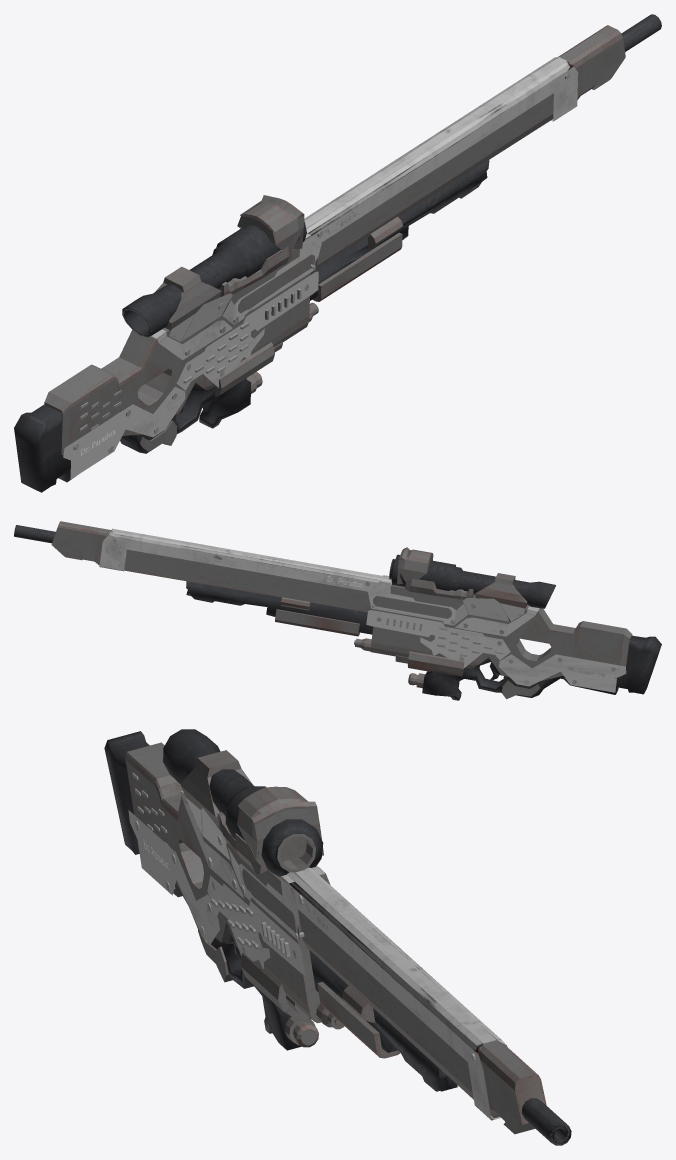
The model's file is sniper-rifle.obj.
3 renders of one model, top to bottom at view 1: azimuth 30°, elevation 25°; view 2: azimuth 150°, elevation 25°; view 3: azimuth 270°, elevation 25°, orthographic. The views are drawn at different scales.
Visible parts, largest first — view 1: defaultMaterial.002, defaultMaterial, defaultMaterial.001, defaultMaterial.003; view 2: defaultMaterial.002, defaultMaterial, defaultMaterial.001, defaultMaterial.003; view 3: defaultMaterial.002, defaultMaterial, defaultMaterial.001, defaultMaterial.003.
Boxes of the visible parts, left/top/right/bottom form: defaultMaterial.002: left=44, top=25, right=625, bottom=455; defaultMaterial: left=63, top=57, right=578, bottom=479; defaultMaterial.001: left=14, top=14, right=661, bottom=492; defaultMaterial.003: left=73, top=73, right=569, bottom=452; defaultMaterial.002: left=51, top=521, right=632, bottom=699; defaultMaterial: left=99, top=529, right=626, bottom=692; defaultMaterial.001: left=14, top=525, right=661, bottom=700; defaultMaterial.003: left=113, top=538, right=615, bottom=684; defaultMaterial.002: left=125, top=742, right=546, bottom=1134; defaultMaterial: left=128, top=791, right=507, bottom=1120; defaultMaterial.001: left=104, top=729, right=571, bottom=1145; defaultMaterial.003: left=132, top=772, right=475, bottom=1061.
Bounding box in the file's own units: 18.07 × 4.52 × 6.77.
